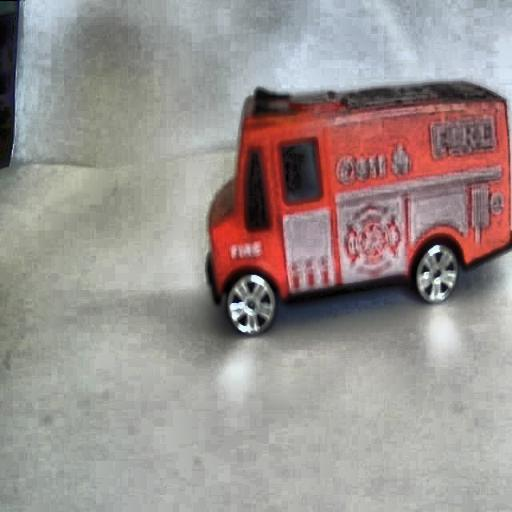fire_truck: (198, 76, 512, 337)
